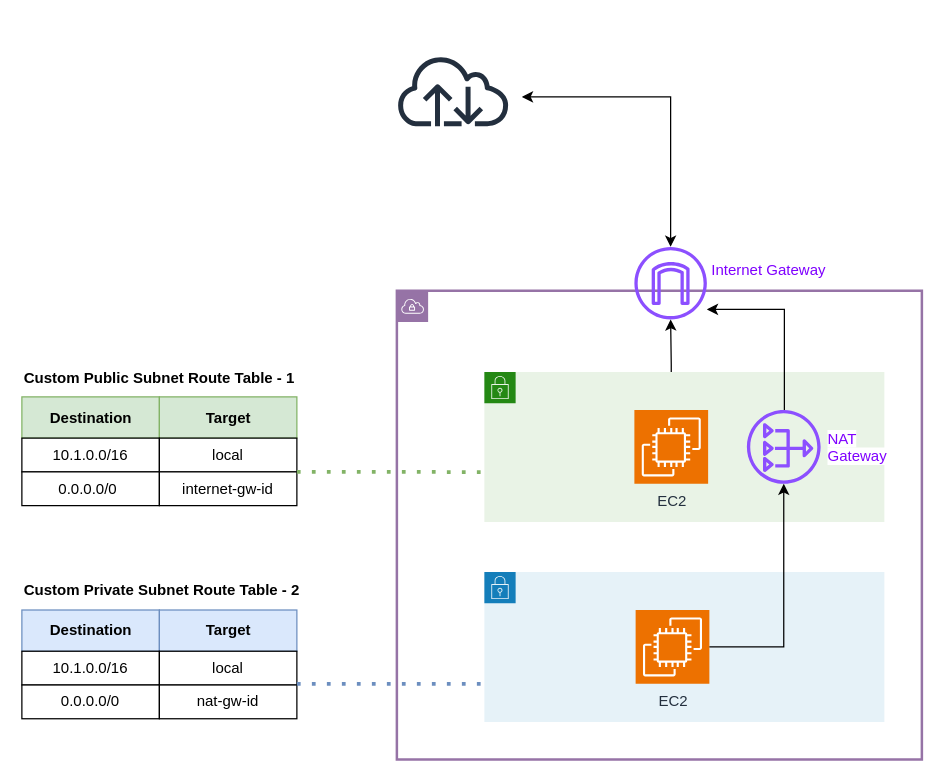
The diagram is 945 pixels wide and 783 high, and some of its shapes have lost their labels. The box of each missing label's shape, as (x1, y1, x2, y2) in pixels:
Internet: (383, 21, 522, 159)
Private subnet 10.1.1.0/24: (483, 571, 884, 722)
Public subnet 10.1.0.0/24: (483, 371, 884, 522)
VPC 10.1.0.0/16: (395, 289, 922, 760)
